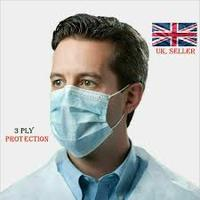flu mask: (47, 86, 112, 160)
